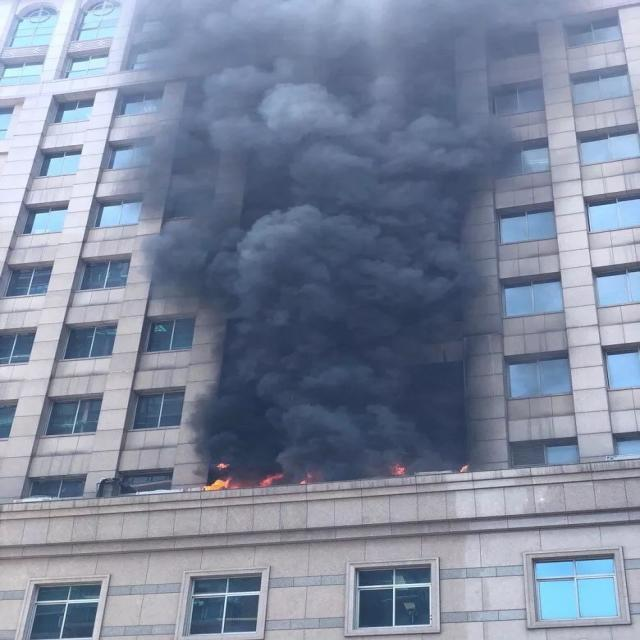Smoke: (142, 0, 497, 469)
